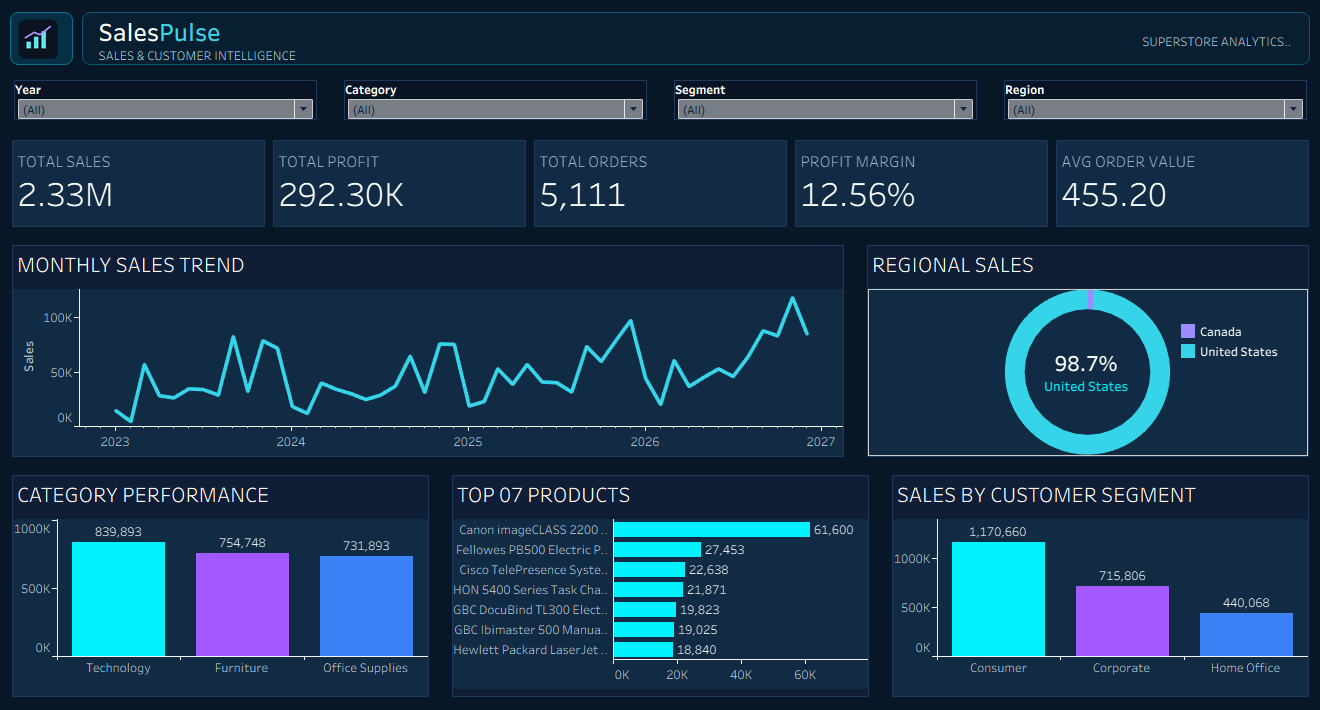

The page's visual inventory and layout, read from the dashboard file:
{"tool":"tableau","page":{"name":"SalesPulse - Final Dashboard","canvas":[1345,710],"ordinal":0},"visuals":[{"type":"blank","box":[22.4,11.4,62.8,53]},{"type":"blank","box":[94.2,11.4,1228.4,53]},{"type":"text","box":[107.6,14.2,638.9,49.2]},{"type":"image","param":"Image/salespulse_header_icon.png","box":[30.3,18,47.1,39.8]},{"type":"text","box":[1053.6,23.7,252.2,32.2]},{"type":"filter","title":"CHART - Monthly Sales Trend","param":"[federated.0h31dwo0oz1ahr1h7nbg600pzd8s].[none:Order Year:ok]","box":[20,75,315,48]},{"type":"filter","title":"CHART - Monthly Sales Trend","param":"[federated.0h31dwo0oz1ahr1h7nbg600pzd8s].[none:Category:nk]","box":[350,75,315,48]},{"type":"filter","title":"CHART - Monthly Sales Trend","param":"[federated.0h31dwo0oz1ahr1h7nbg600pzd8s].[none:Segment:nk]","box":[680,75,315,48]},{"type":"filter","title":"CHART - Monthly Sales Trend","param":"[federated.0h31dwo0oz1ahr1h7nbg600pzd8s].[none:Country/Region:nk]","box":[1010,75,315,48]},{"type":"worksheet","title":"KPI - Total Sales","mark":"Automatic","box":[20,135,261,95]},{"type":"worksheet","title":"KPI - Total Profit","mark":"Automatic","box":[281,135,261,95]},{"type":"worksheet","title":"KPI - Total Orders","mark":"Automatic","box":[542,135,261,95]},{"type":"worksheet","title":"KPI - Profit Margin","mark":"Automatic","box":[803,135,261,95]},{"type":"worksheet","title":"KPI - Avg Order Value","mark":"Automatic","box":[1064,135,261,95]},{"type":"worksheet","title":"CHART - Monthly Sales Trend","mark":"Automatic","rows":["Sales"],"cols":["Order Date"],"box":[20,240,840,220]},{"type":"worksheet","title":"CHART - Regional Sales","mark":"Pie","cols":["Calculation_1012986768871428","Calculation_1012986768871428"],"box":[875,240,450,220]},{"type":"legend","title":"CHART - Regional Sales","param":"[federated.0h31dwo0oz1ahr1h7nbg600pzd8s].[none:Country/Region:nk]","box":[1190,320,130,60]},{"type":"worksheet","title":"CHART - Category Performance","mark":"Bar","rows":["Sales"],"cols":["Category"],"box":[20,470,425,230]},{"type":"worksheet","title":"CHART - Top 7 Products","mark":"Bar","rows":["Product Name"],"cols":["Sales"],"box":[460,470,425,230]},{"type":"worksheet","title":"CHART - Sales by Segment","mark":"Bar","rows":["Sales"],"cols":["Segment"],"box":[900,470,425,230]}]}

Visuals, with their boxes in screenshot pixels (x1, y1, x2, y2), scaled from the page's 1345x710 canvas onto the 1320x710 screenshot:
blank: [left=22, top=11, right=84, bottom=64]
blank: [left=92, top=11, right=1298, bottom=64]
text: [left=106, top=14, right=733, bottom=63]
image: [left=30, top=18, right=76, bottom=58]
text: [left=1034, top=24, right=1282, bottom=56]
"CHART - Monthly Sales Trend" filter: [left=20, top=75, right=329, bottom=123]
"CHART - Monthly Sales Trend" filter: [left=343, top=75, right=653, bottom=123]
"CHART - Monthly Sales Trend" filter: [left=667, top=75, right=977, bottom=123]
"CHART - Monthly Sales Trend" filter: [left=991, top=75, right=1300, bottom=123]
"KPI - Total Sales" worksheet: [left=20, top=135, right=276, bottom=230]
"KPI - Total Profit" worksheet: [left=276, top=135, right=532, bottom=230]
"KPI - Total Orders" worksheet: [left=532, top=135, right=788, bottom=230]
"KPI - Profit Margin" worksheet: [left=788, top=135, right=1044, bottom=230]
"KPI - Avg Order Value" worksheet: [left=1044, top=135, right=1300, bottom=230]
"CHART - Monthly Sales Trend" worksheet: [left=20, top=240, right=844, bottom=460]
"CHART - Regional Sales" worksheet (Pie marks): [left=859, top=240, right=1300, bottom=460]
"CHART - Regional Sales" legend: [left=1168, top=320, right=1295, bottom=380]
"CHART - Category Performance" worksheet (Bar marks): [left=20, top=470, right=437, bottom=700]
"CHART - Top 7 Products" worksheet (Bar marks): [left=451, top=470, right=869, bottom=700]
"CHART - Sales by Segment" worksheet (Bar marks): [left=883, top=470, right=1300, bottom=700]
